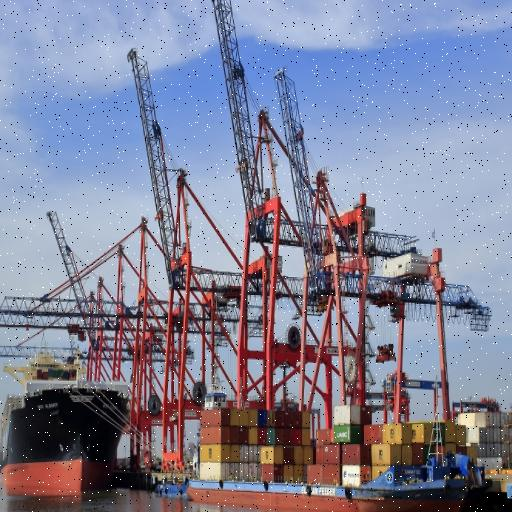tugboat: (185, 377, 500, 512)
